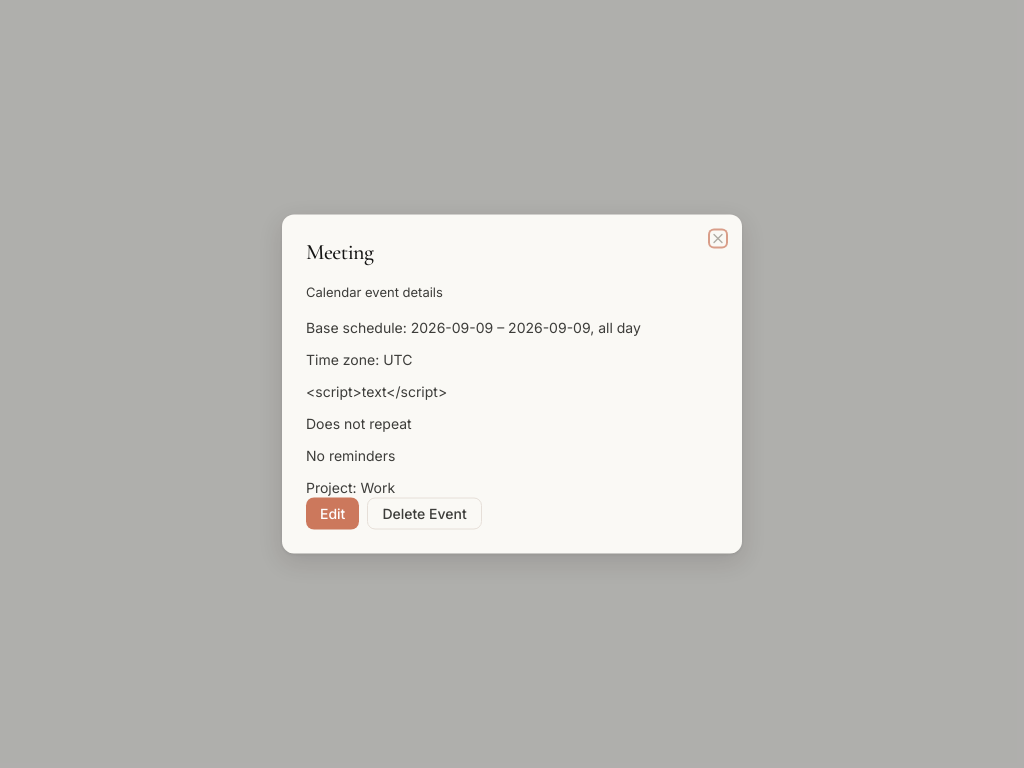
Test: requires reload after uncertain or conflicting updates
Click the button "Edit": (333, 514) [306,498,359,530]
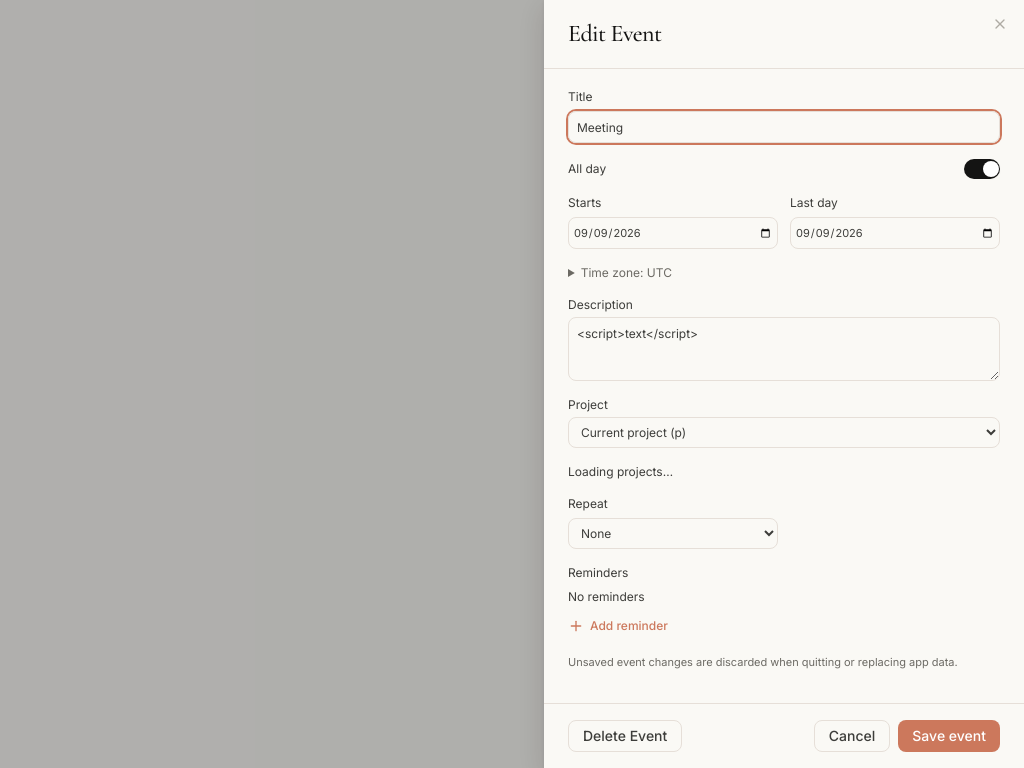
Replace the text in the field labelled "Title" with "Draft": (784, 127) [568,111,1000,143]
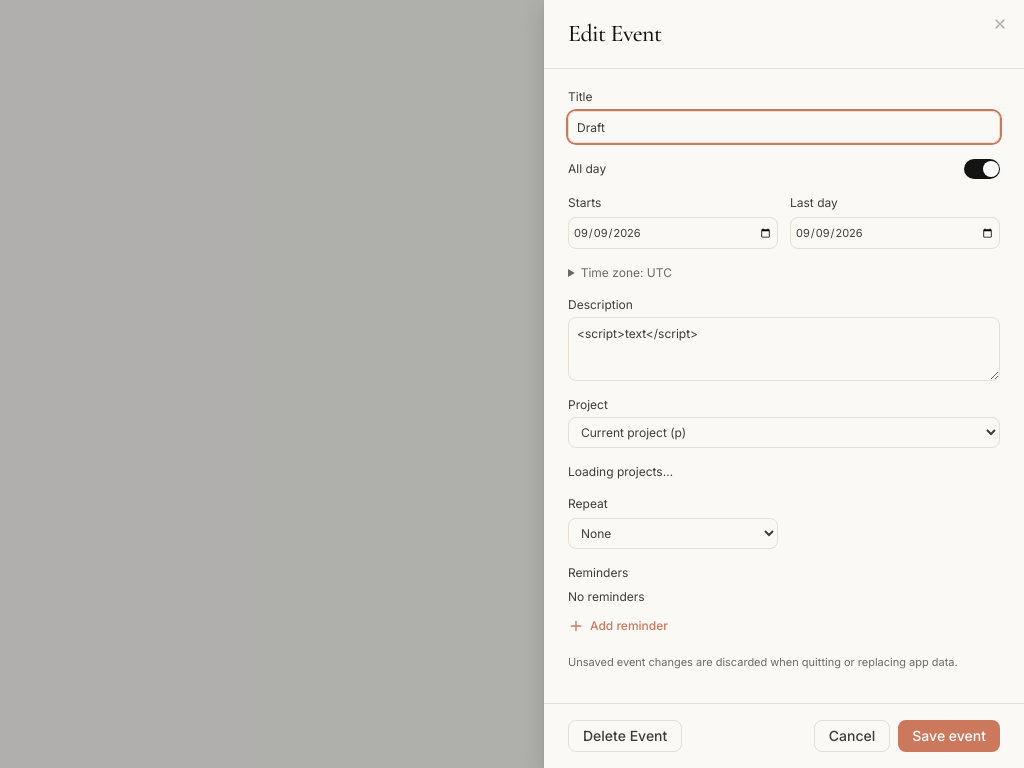
Click the button "Save event": (949, 736) [898,720,1000,752]
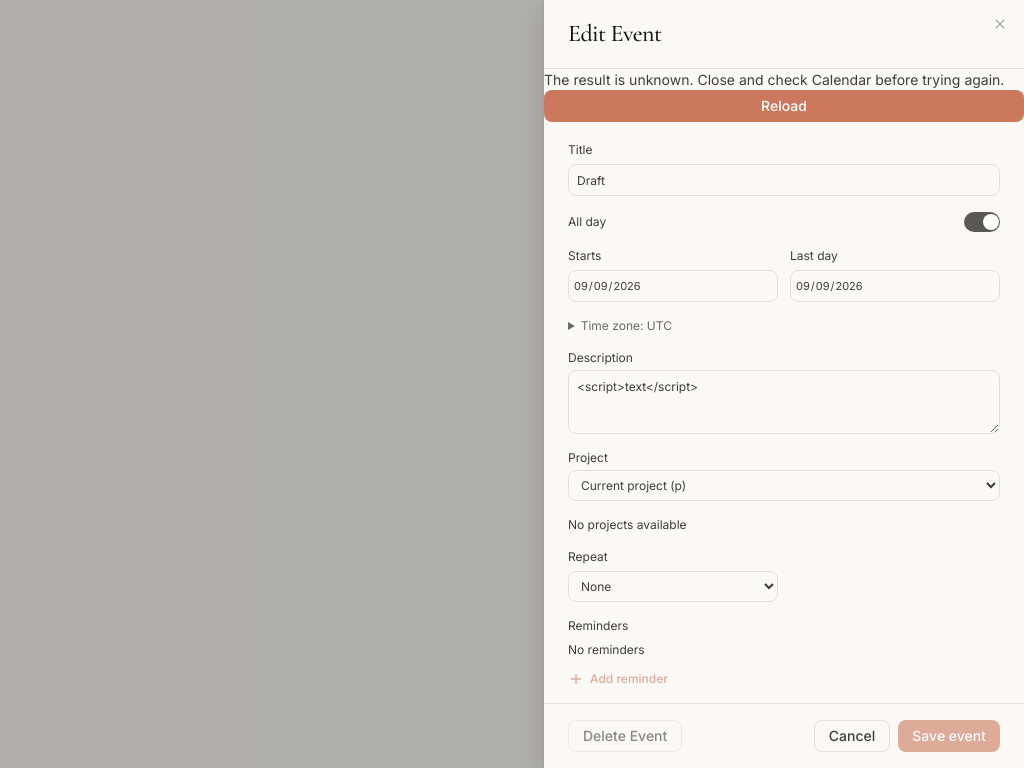
Now the button "Reload" is shown, box [544,90,1023,122]
Now the button "Save event" is disabled, box [898,720,1000,752]
